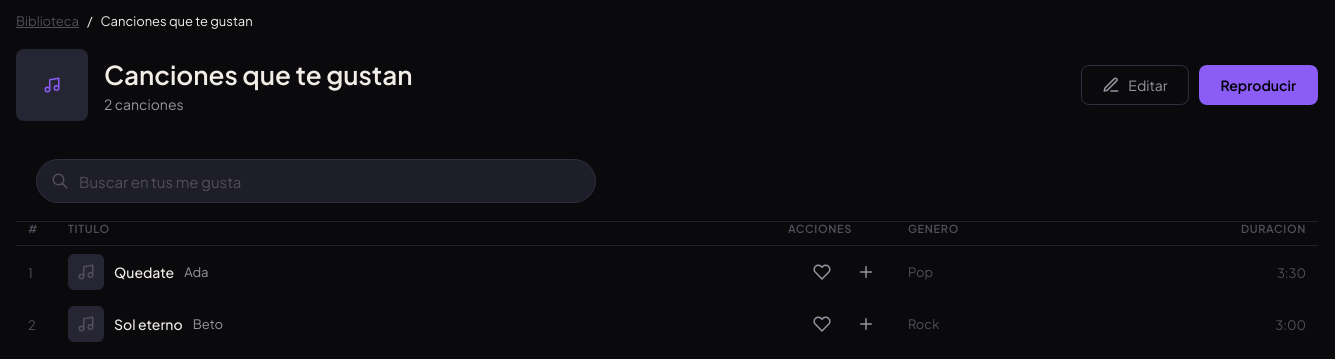
Test: LibraryPage › filters liked songs inside the playlist detail with the reusable local search behavior
The image size is (1335, 359).
Expected: the text "Quedate" is shown, [114,263,174,281]
Expected: the text "Sol eterno" is shown, [114,315,183,333]
Type "que" into the field with placeholder "Buscar en tus me gusta".
click(316, 181); type("que")  # box [36,159,596,203]
Then press Enter
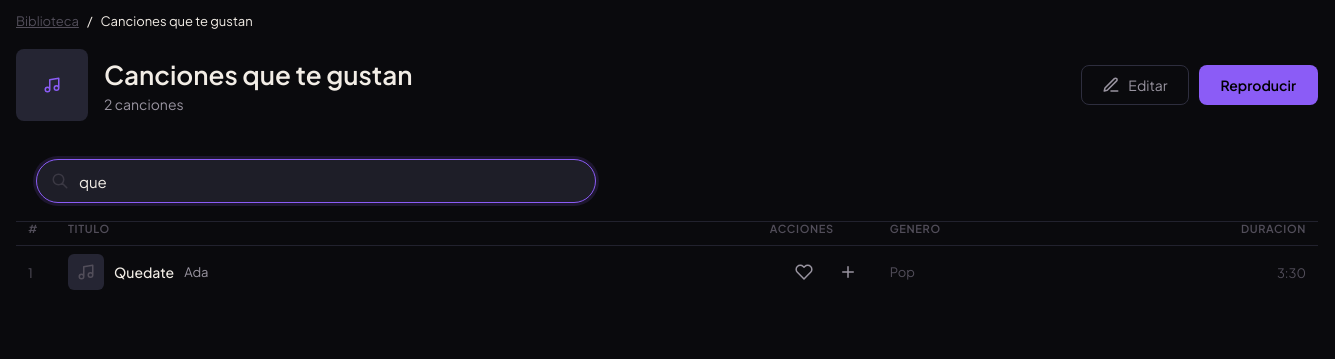
Expected: the text "Quedate" is shown, [114,263,174,281]
Expected: the button "Sol eterno" is gone
